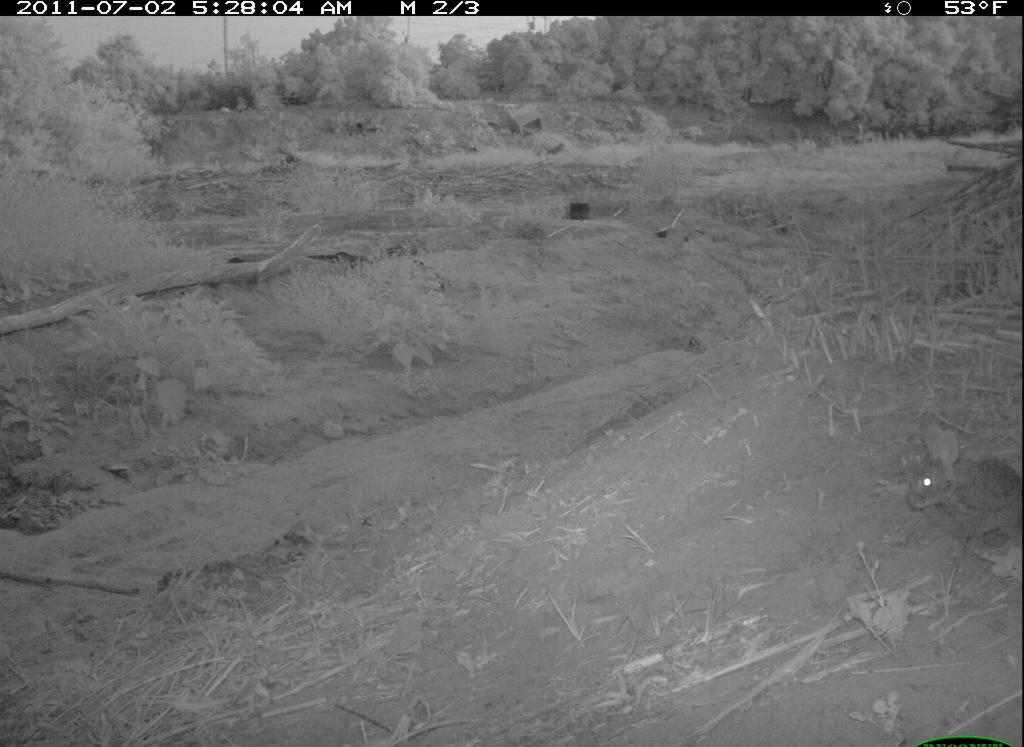rabbit: (904, 424, 1023, 589)
